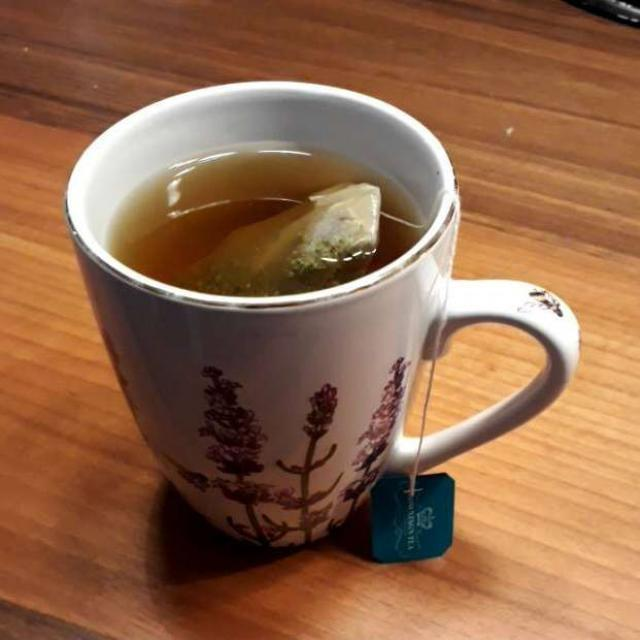tea: (137, 167, 411, 289)
